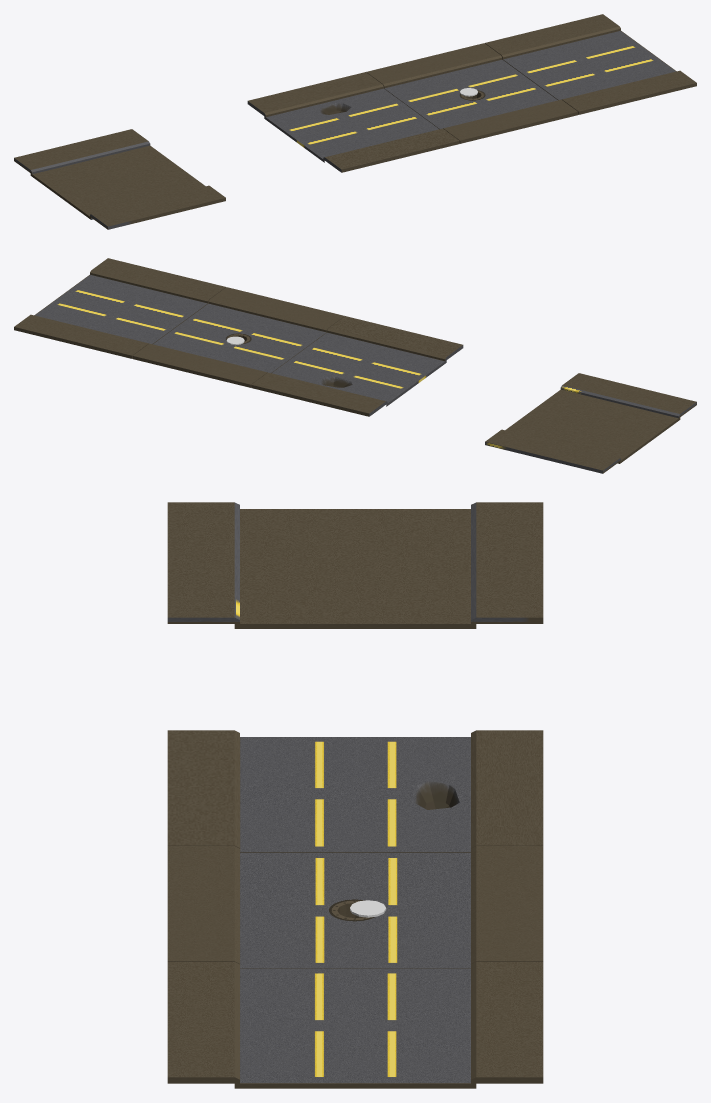
Rendered from RuaBueiro.fbx.
3 views of the same model, one above another, from view 1: azimuth 30°, elevation 25°; view 2: azimuth 150°, elevation 25°; view 3: azimuth 270°, elevation 25° (orthographic). The views are drawn at different scales.
Parts seen in each view (by area): view 1: Rua(1).001, Rua(3), Rua(1), Rua(2); view 2: Rua(1).001, Rua(3), Rua(1), Rua(2); view 3: Rua(1), Rua(1).001, Rua(3), Rua(2).
Part boxes in pixels (x1,y1,x2,y2): Rua(1).001: (14, 129, 225, 229); Rua(3): (247, 72, 459, 172); Rua(1): (485, 14, 696, 114); Rua(2): (366, 43, 578, 143); Rua(1).001: (485, 373, 696, 473); Rua(3): (251, 316, 463, 416); Rua(1): (14, 258, 225, 358); Rua(2): (132, 287, 344, 387); Rua(1): (167, 962, 543, 1088); Rua(1).001: (167, 502, 543, 628); Rua(3): (167, 730, 543, 852); Rua(2): (167, 846, 543, 968).
Bounding box in the file's own units: 7481 × 351 × 2067.
3 materials, 3 textured.
